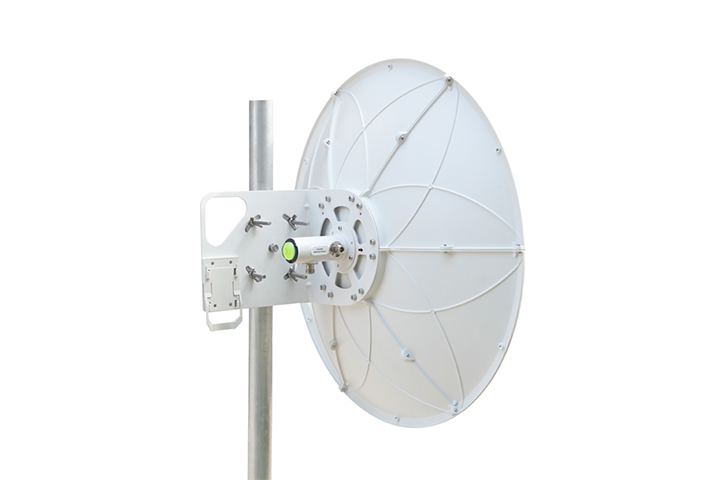ba: (251, 54, 532, 443)
